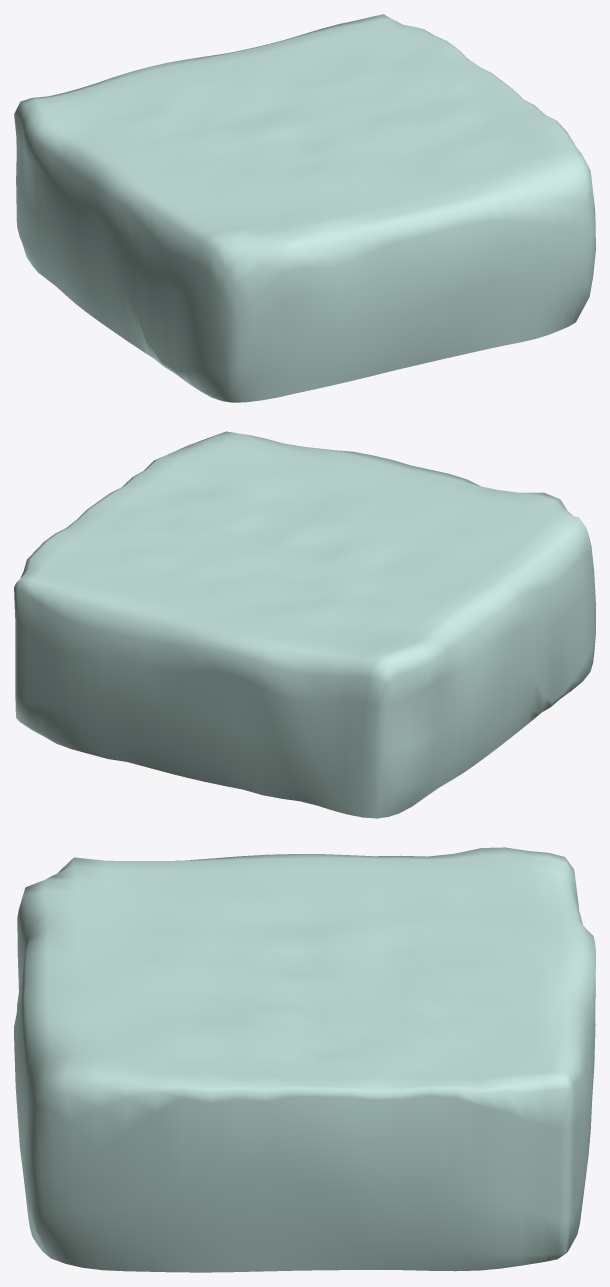
The model's file is water.fbx.
3 views of the same model, one above another, from view 1: azimuth 30°, elevation 25°; view 2: azimuth 150°, elevation 25°; view 3: azimuth 270°, elevation 25° (orthographic). The views are drawn at different scales.
Visible parts, largest first — view 1: Plane; view 2: Plane; view 3: Plane.
Boxes of the visible parts, x1,y1,x2,y2 form: Plane: (14, 14, 595, 402); Plane: (14, 431, 595, 818); Plane: (14, 847, 595, 1272).
Bounding box in the file's own units: 296 × 111 × 296.
